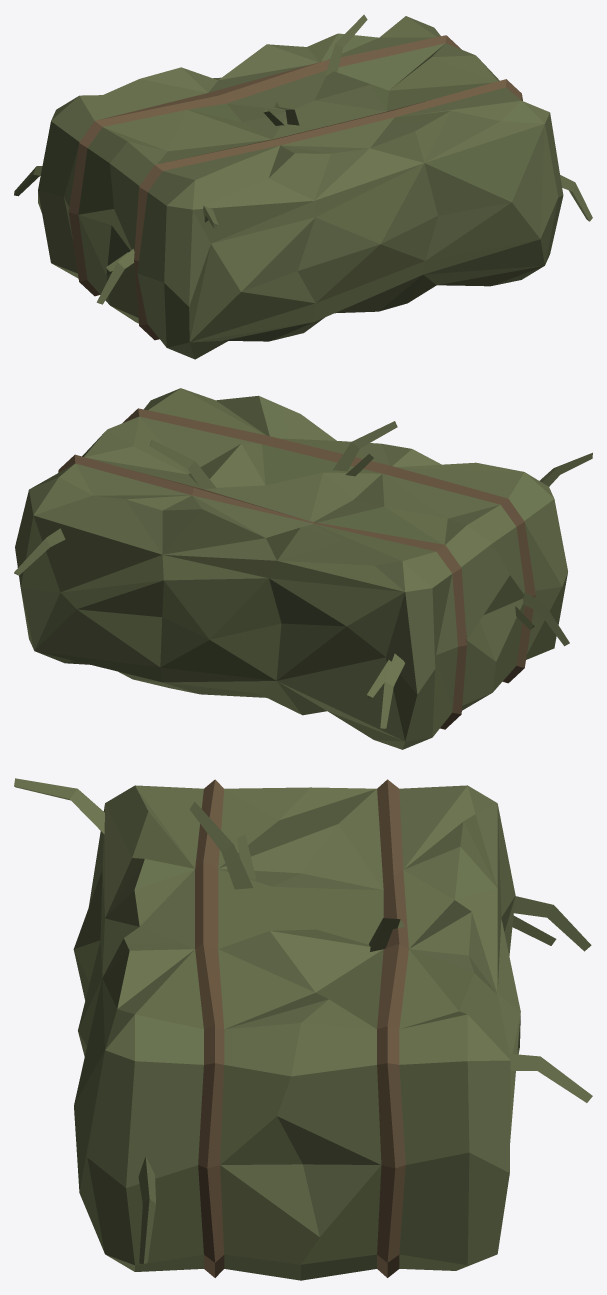
Rendered from SM_Prop_Hay_Bale_Square_01_Green.glb.
The picture shows the model from 3 angles, top to bottom: view 1: azimuth 30°, elevation 25°; view 2: azimuth 150°, elevation 25°; view 3: azimuth 270°, elevation 25°; orthographic projection. The views are drawn at different scales.
Parts seen in each view (by area): view 1: SM_Prop_Hay_Bale_Square_01_Green; view 2: SM_Prop_Hay_Bale_Square_01_Green; view 3: SM_Prop_Hay_Bale_Square_01_Green.
Boxes of the visible parts, box(x1,y1,x2,y2) form: SM_Prop_Hay_Bale_Square_01_Green: box(14, 14, 592, 359); SM_Prop_Hay_Bale_Square_01_Green: box(14, 388, 592, 749); SM_Prop_Hay_Bale_Square_01_Green: box(14, 778, 592, 1280).
Bounding box in the file's own units: 1.91 × 0.9474 × 1.41.
Materials: 1 (1 with a texture image).
